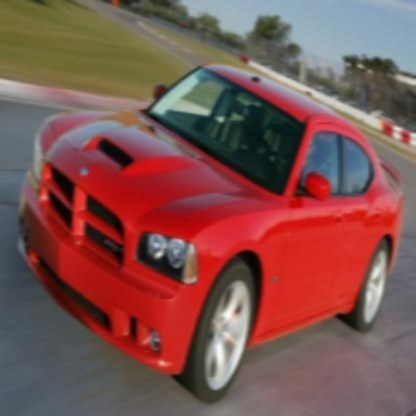Vehicle: (17, 61, 406, 406)
